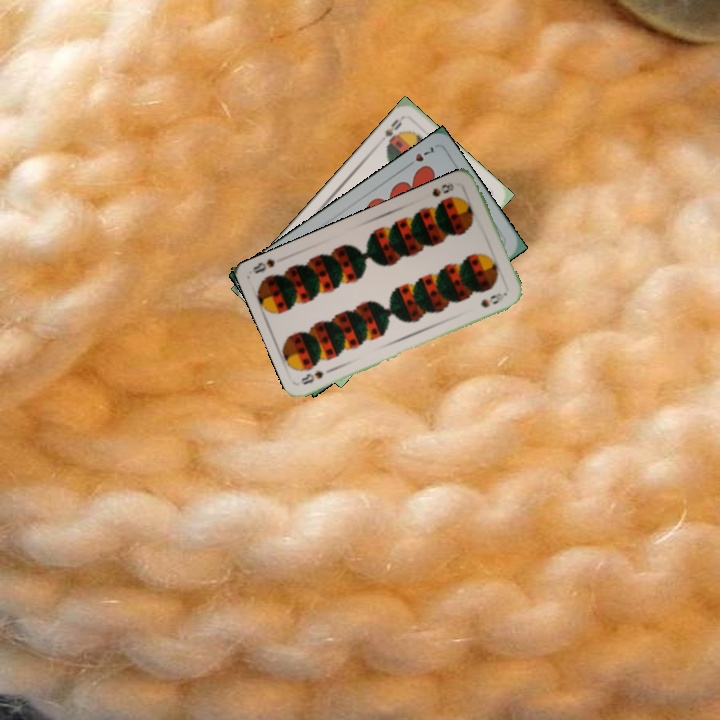H7: (402, 142, 438, 170)
S8: (297, 364, 336, 387), (428, 178, 456, 199)
SO: (381, 114, 405, 150)
